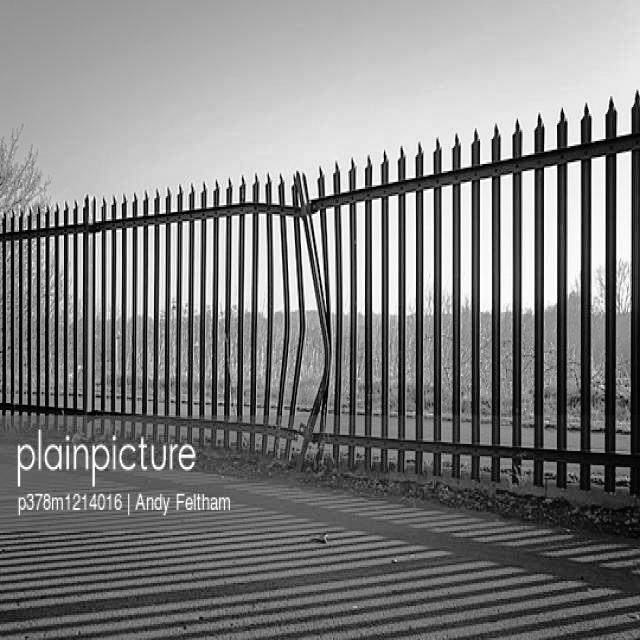anomaly-fence: (275, 184, 341, 428)
fences: (2, 217, 249, 416)
